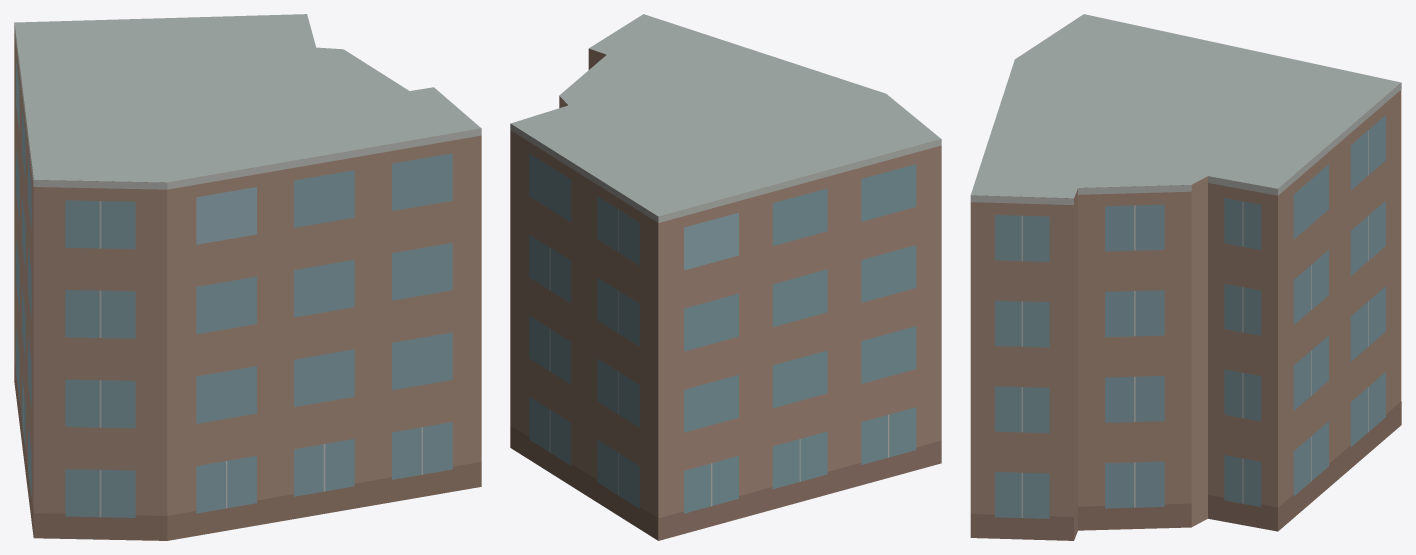
The model's file is survey-upis-32630570.glb.
The picture shows the model from 3 angles, left to right: view 1: azimuth 30°, elevation 25°; view 2: azimuth 150°, elevation 25°; view 3: azimuth 270°, elevation 25°; orthographic projection. The views are drawn at different scales.
Parts seen in each view (by area): view 1: survey-upis-32630570.tmp; view 2: survey-upis-32630570.tmp; view 3: survey-upis-32630570.tmp.
Part boxes in pixels (x1,y1,x2,y2): survey-upis-32630570.tmp: (14, 14, 481, 540); survey-upis-32630570.tmp: (510, 14, 941, 540); survey-upis-32630570.tmp: (970, 14, 1401, 540).
Bounding box in the file's own units: 14.08 × 12.2 × 13.91.
